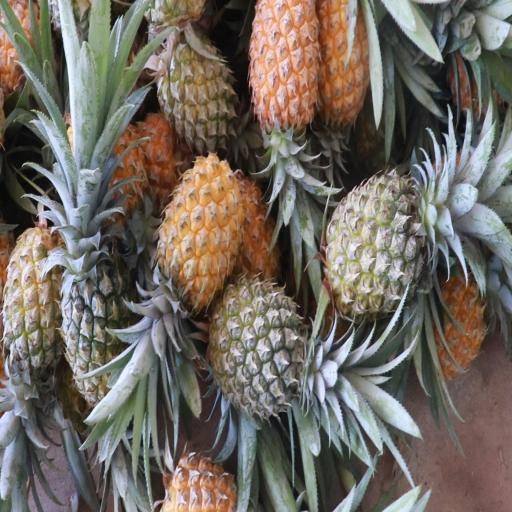------------------------------: (0, 214, 65, 452)
Pineapple - v8 v1: (141, 159, 246, 345), (247, 1, 319, 214), (319, 0, 375, 163)
